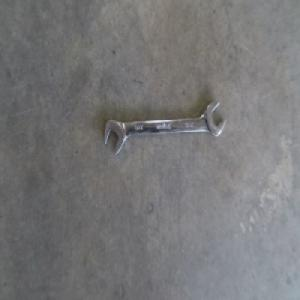Wrench: (105, 98, 228, 152)
